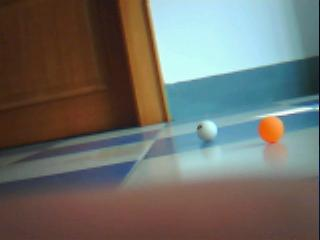oball: (259, 114, 285, 144)
